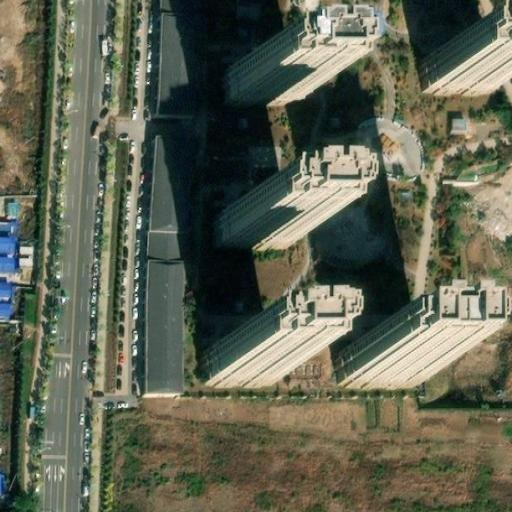building: (144, 134, 193, 389), (348, 332, 431, 373), (423, 49, 495, 89), (226, 59, 301, 97), (223, 195, 300, 231), (209, 336, 281, 373), (0, 283, 14, 318), (447, 113, 466, 133)
